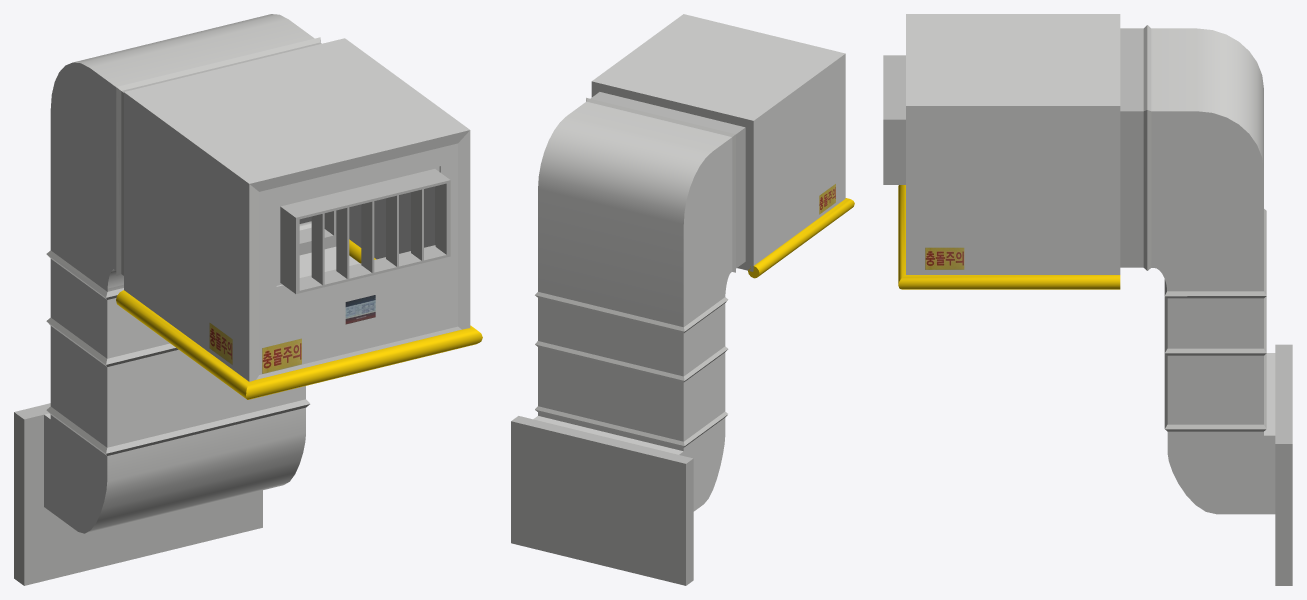
3 views of the same model, side by side, from view 1: azimuth 30°, elevation 25°; view 2: azimuth 150°, elevation 25°; view 3: azimuth 270°, elevation 25° (orthographic). The views are drawn at different scales.
Visible parts, largest first — view 1: RM1-OH14W060D072; view 2: RM1-OH14W060D072; view 3: RM1-OH14W060D072.
Part boxes in pixels (x1,y1,x2,y2): RM1-OH14W060D072: [14, 14, 482, 585]; RM1-OH14W060D072: [511, 14, 854, 585]; RM1-OH14W060D072: [883, 14, 1292, 585].
Size of the model in its own units: 0.6 by 1.34 by 1.04.
5 materials, 2 textured.
